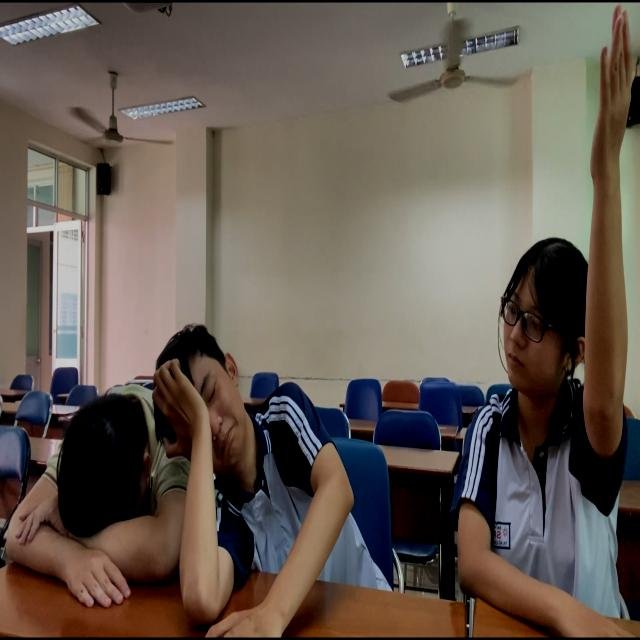raise_hand: (449, 1, 640, 639)
